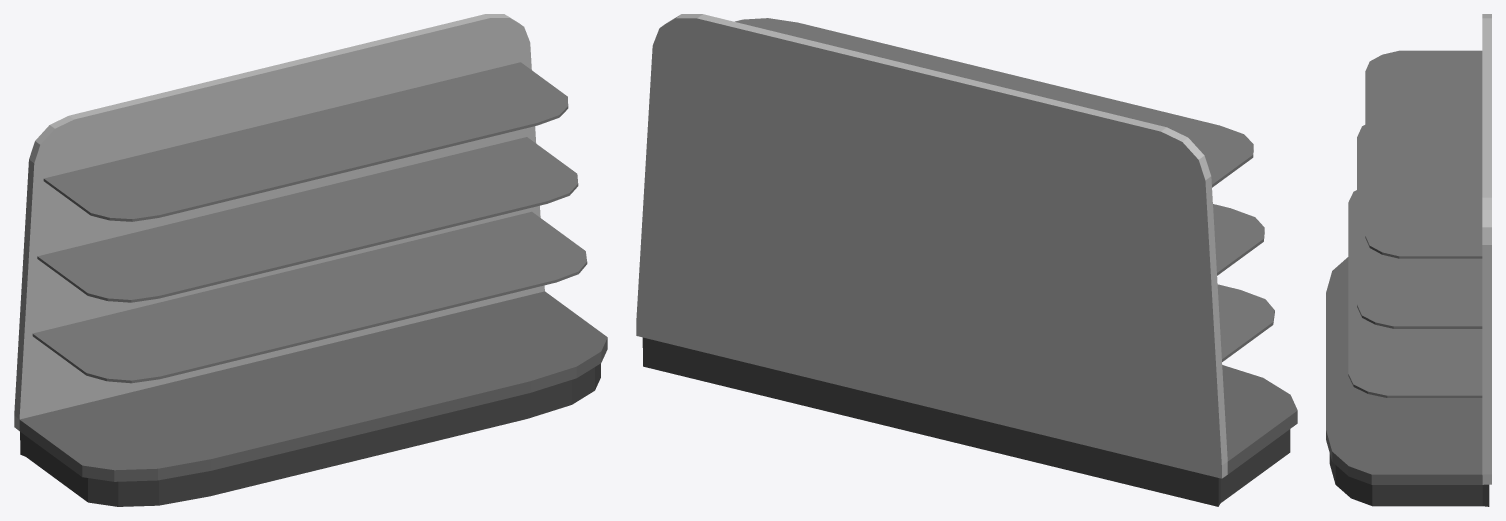
Rendered from Cleaner Fluid Shelving #1.fbx.
The picture shows the model from 3 angles, left to right: view 1: azimuth 30°, elevation 25°; view 2: azimuth 150°, elevation 25°; view 3: azimuth 270°, elevation 25°; orthographic projection. The views are drawn at different scales.
Visible parts, largest first — view 1: Cleaner Fluid Shelving #1; view 2: Cleaner Fluid Shelving #1; view 3: Cleaner Fluid Shelving #1.
Part boxes in pixels (x1,y1,x2,y2): Cleaner Fluid Shelving #1: [14, 14, 607, 506]; Cleaner Fluid Shelving #1: [636, 14, 1297, 506]; Cleaner Fluid Shelving #1: [1326, 14, 1491, 506].
Size of the model in its own units: 265 by 157 by 81.95.
Materials: 1 (1 with a texture image).
